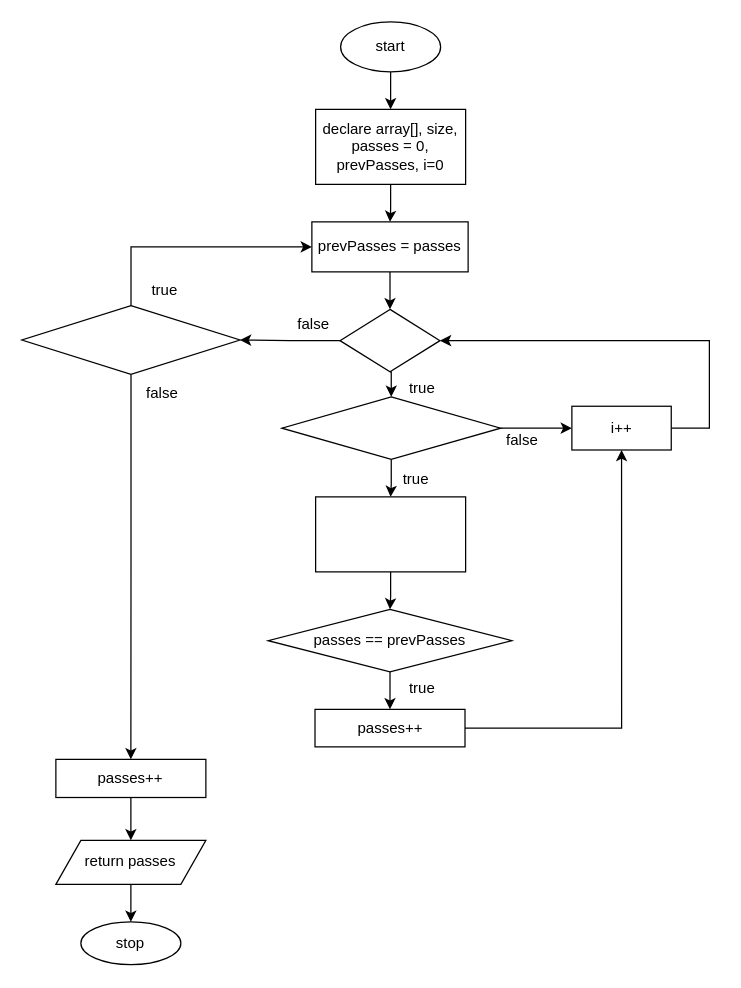
Image size: 741x988. Some labels were removed from this diagram. The centre of each missing label's shape, as x and y in pixels:
array[i] > array[i+1]: the point at 391,427
i < size-1: the point at 389,340
prevPasses != passes: the point at 130,339
temp = array[i] array[i] = array[i+1] array[i+1] = temp: the point at 390,534
